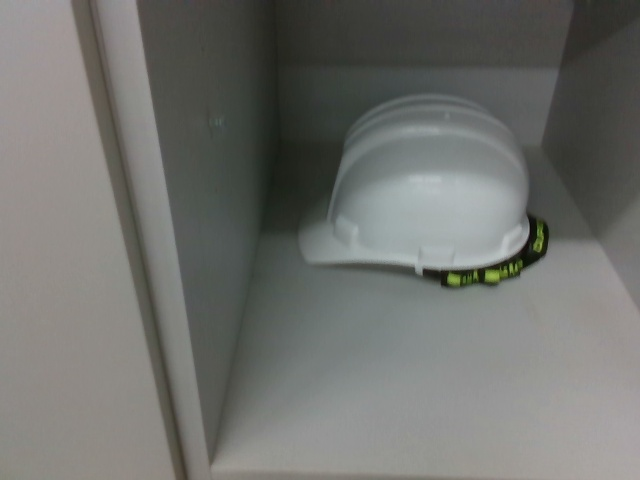helmet: (286, 86, 557, 296)
